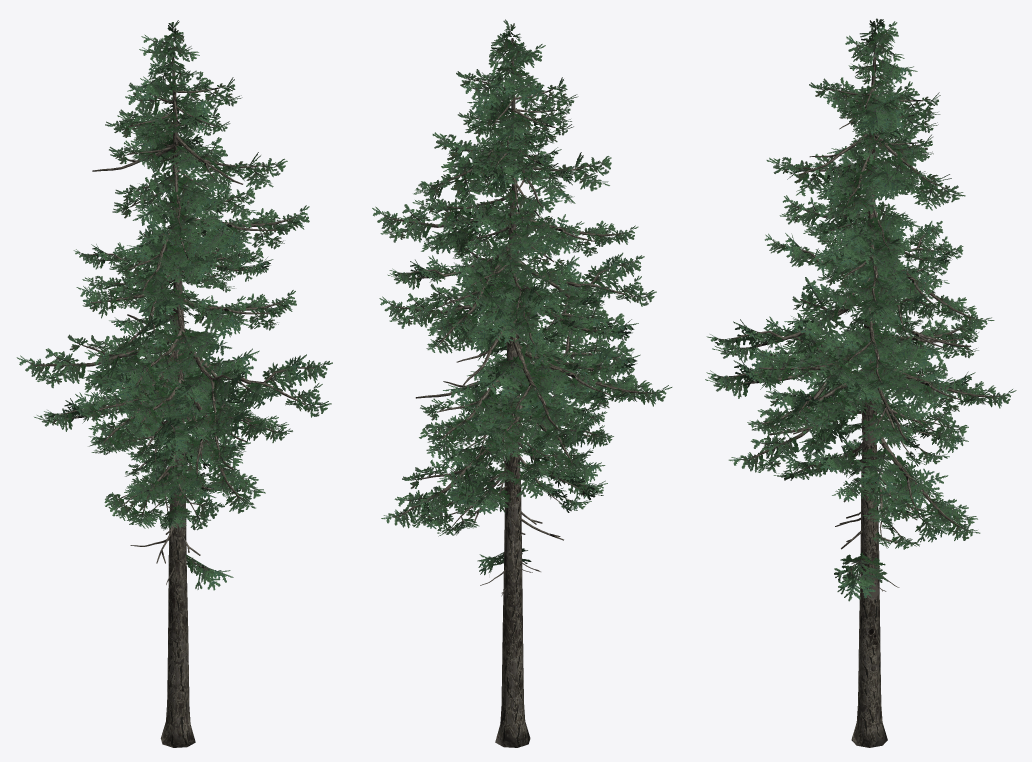
The model's file is Tree2-3.fbx.
3 views of the same model, side by side, from view 1: azimuth 30°, elevation 25°; view 2: azimuth 150°, elevation 25°; view 3: azimuth 270°, elevation 25° (orthographic).
Parts seen in each view (by area): view 1: Tree2-3_LOD0; view 2: Tree2-3_LOD0; view 3: Tree2-3_LOD0.
Part boxes in pixels (x1,y1,x2,y2): Tree2-3_LOD0: (16, 20, 332, 747); Tree2-3_LOD0: (372, 19, 672, 747); Tree2-3_LOD0: (705, 18, 1016, 747).
Size of what is drawn, in the model's own units: 4.47 by 4.51 by 11.46.
